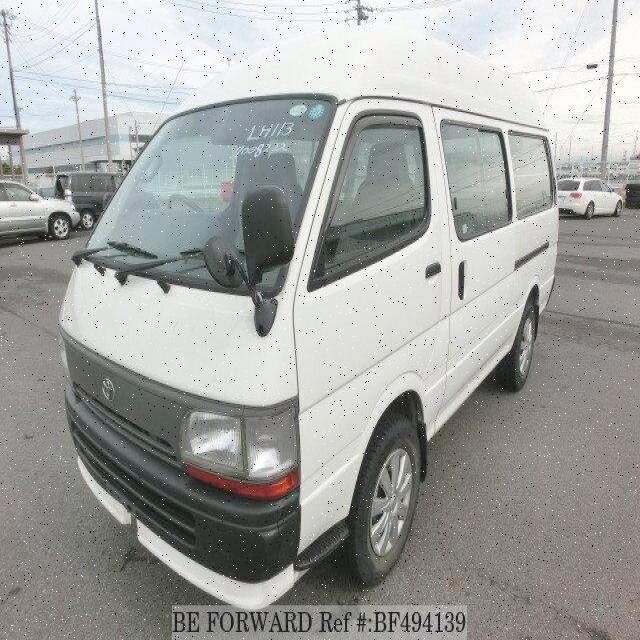Van: (58, 81, 562, 595)
